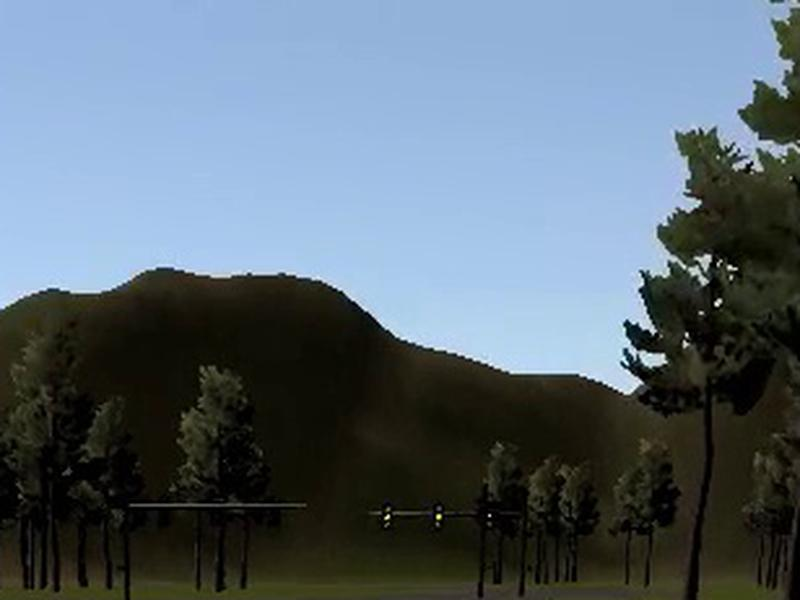Yellow: (432, 502, 446, 531), (382, 504, 392, 530)
